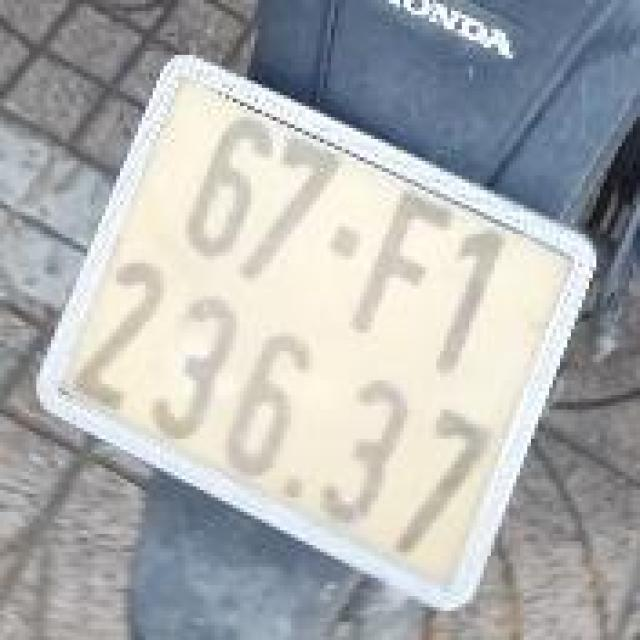1: (413, 214, 546, 395)
2: (55, 240, 193, 426)
3: (131, 280, 259, 453), (308, 368, 431, 534)
6: (204, 316, 337, 492), (171, 102, 289, 274)
7: (375, 395, 509, 569), (228, 128, 355, 300)
F: (339, 174, 480, 362)
